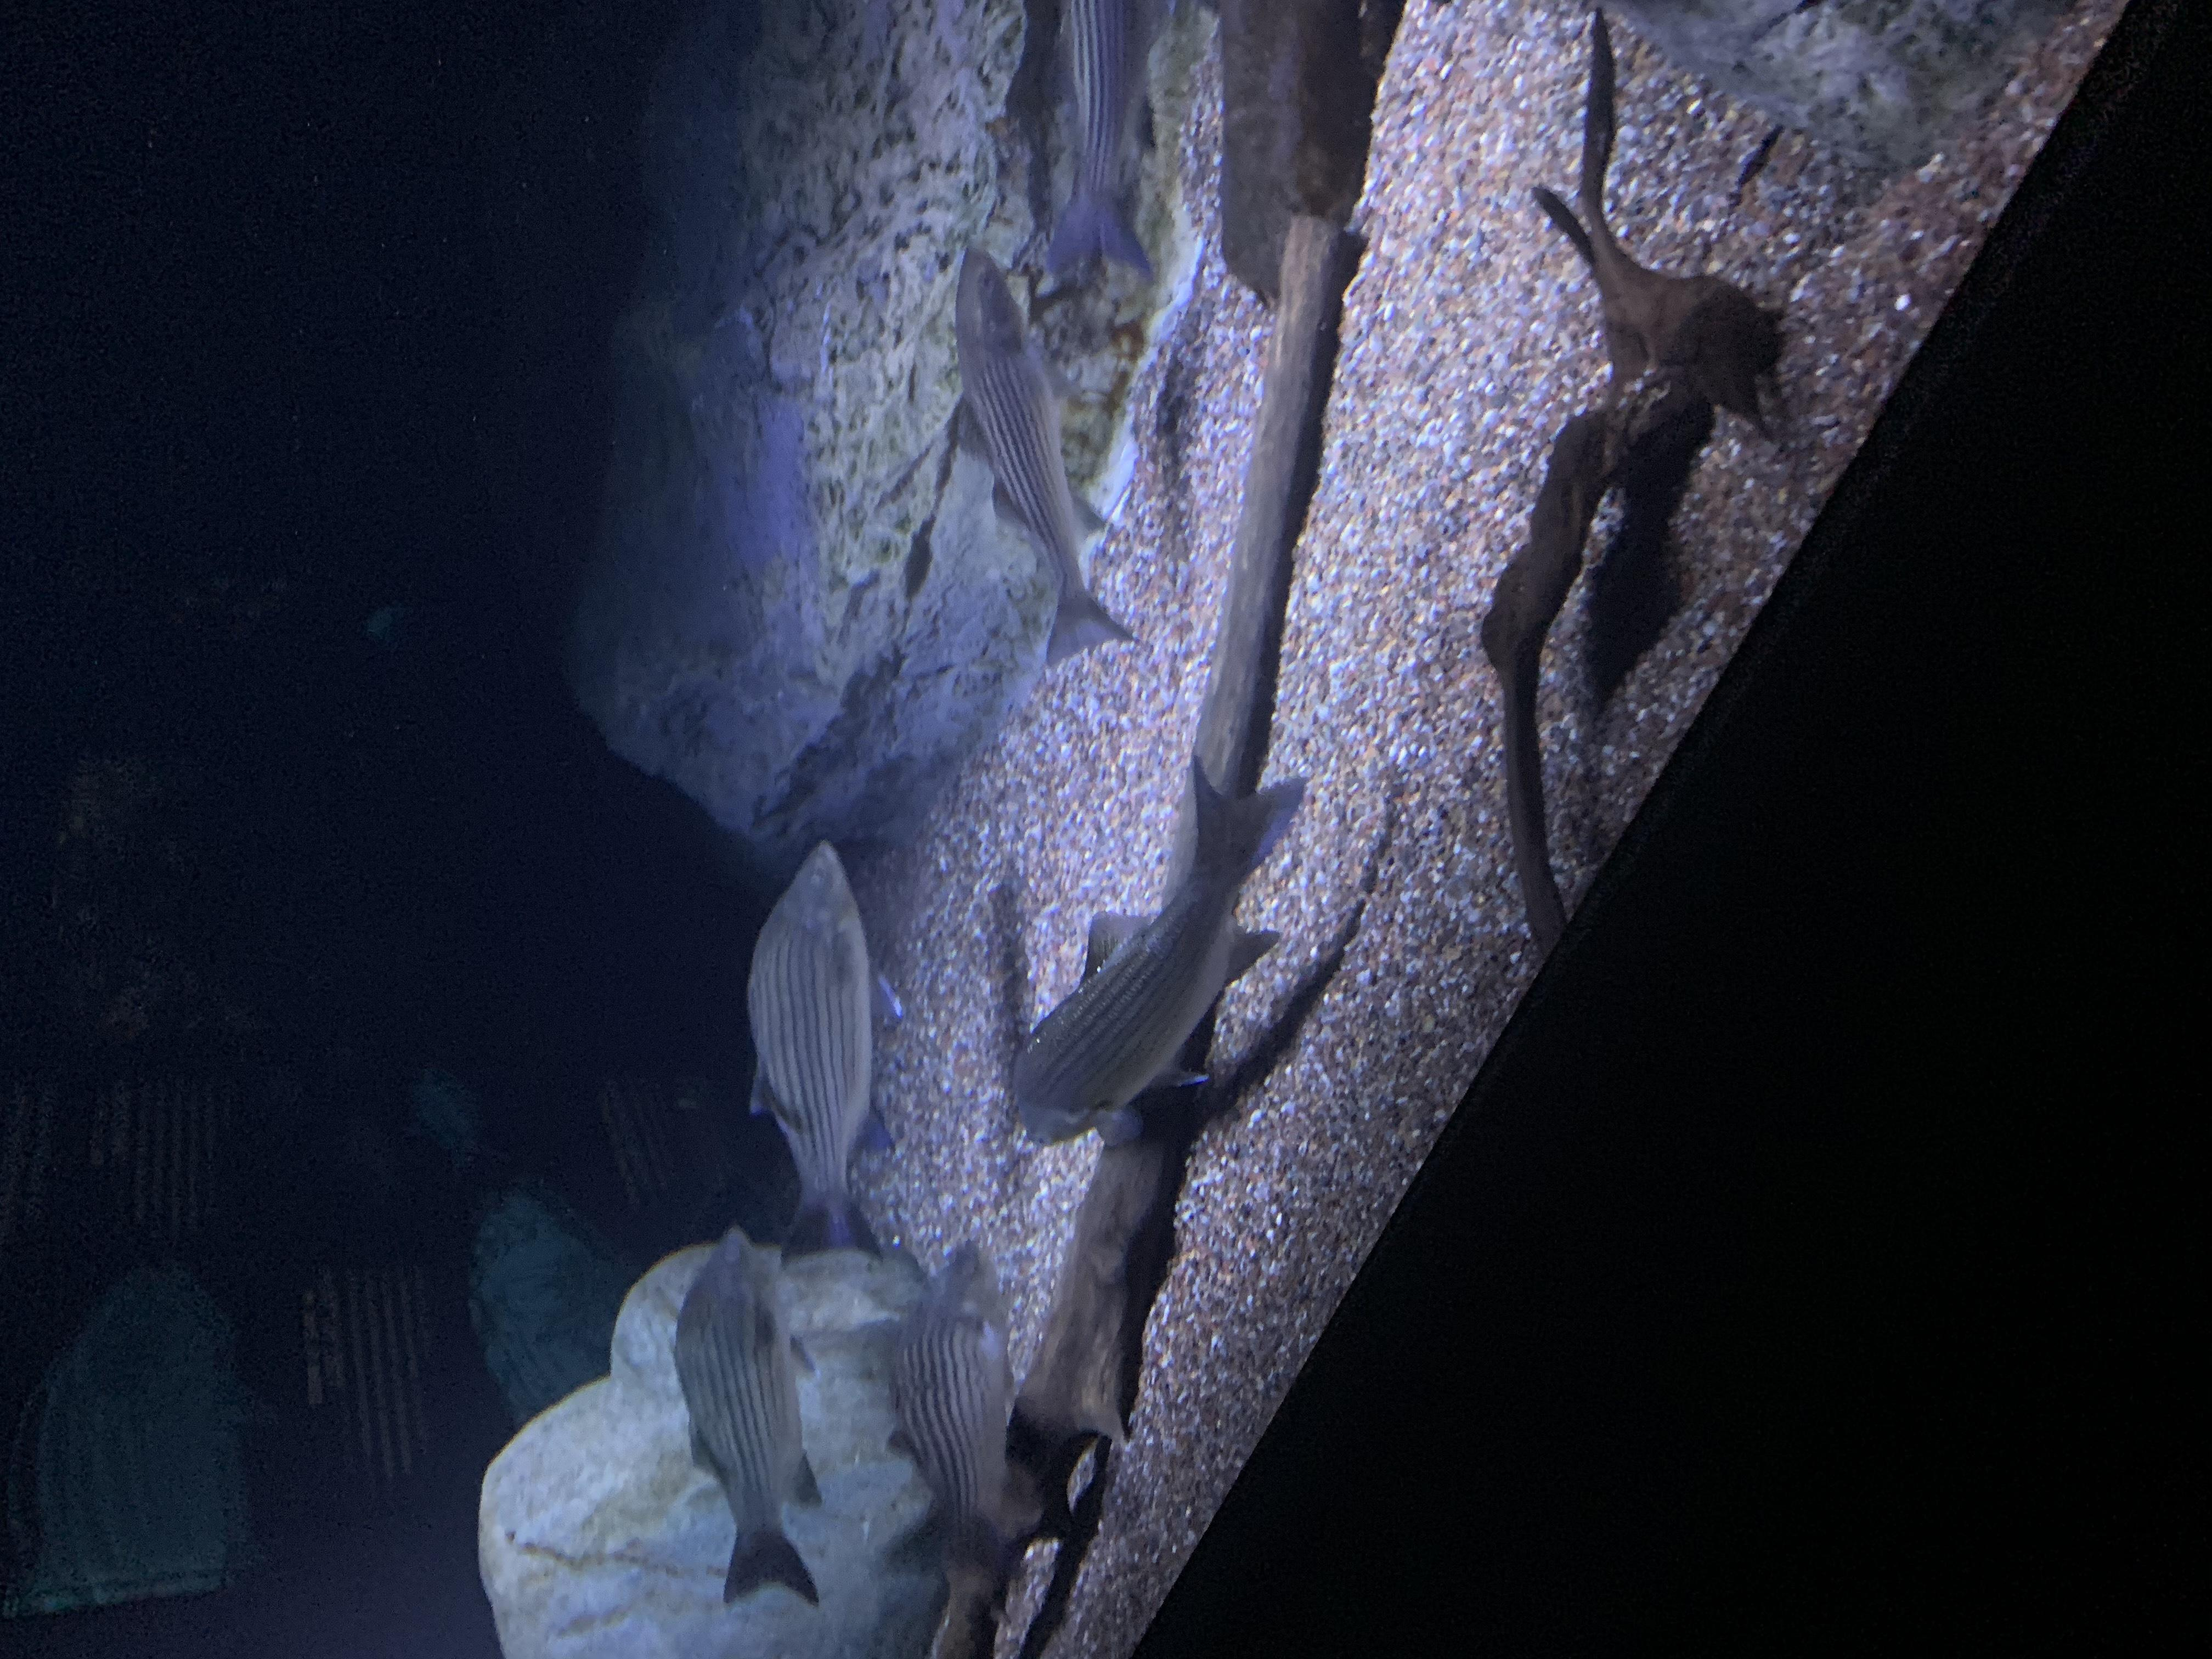fish: (998, 746, 1325, 1154), (941, 242, 1146, 680), (664, 1220, 840, 1621), (737, 838, 900, 1256), (876, 1234, 1036, 1595), (1033, 2, 1179, 288)
